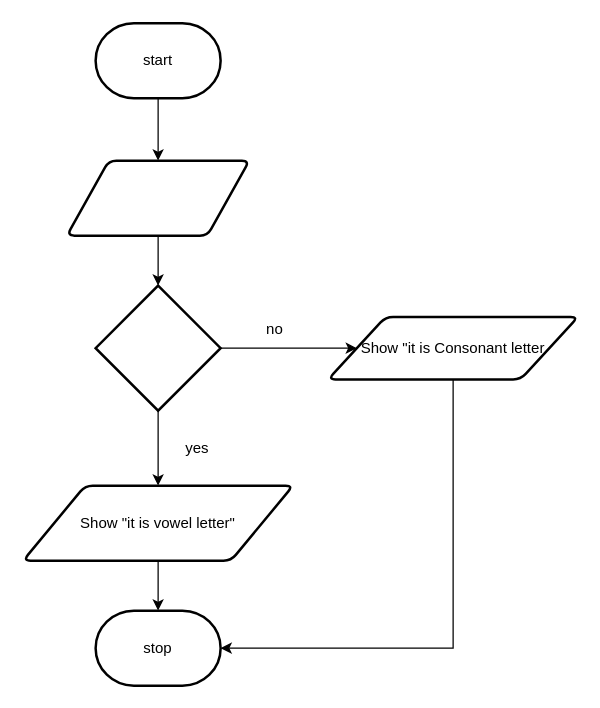
Some shapes in this 600 by 708 pixel diagram are drawn without their labels. The shapes that lost their labels are listed below. From the top down, each one's box as (x1, y1, x2, y2) in pixels, then its label:
(65, 159, 250, 236): get letter from user
(94, 284, 221, 411): if user type vowel letter
